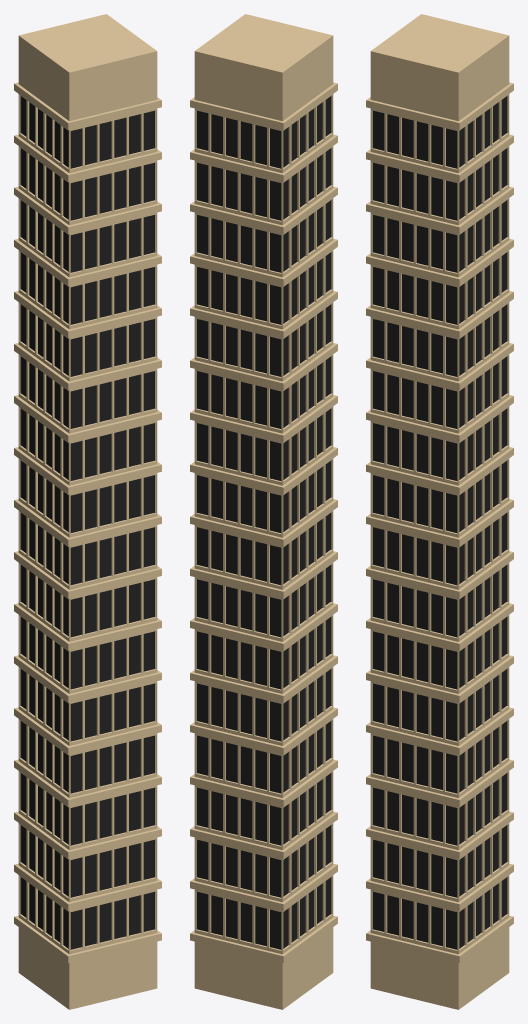
The model's file is buildingfbx.fbx.
3 views of the same model, side by side, from view 1: azimuth 30°, elevation 25°; view 2: azimuth 150°, elevation 25°; view 3: azimuth 330°, elevation 25° (orthographic).
Visible parts, largest first — view 1: Cube.001; view 2: Cube.001; view 3: Cube.001.
Part boxes in pixels (x1,y1,x2,y2): Cube.001: (14,14,161,1009); Cube.001: (190,14,337,1009); Cube.001: (366,14,513,1009).
Bounding box in the file's own units: 213 × 2035 × 213.
